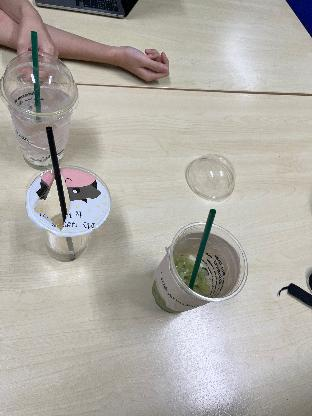Plastic Cup: (153, 222, 249, 322), (0, 53, 80, 155), (25, 166, 106, 262)
